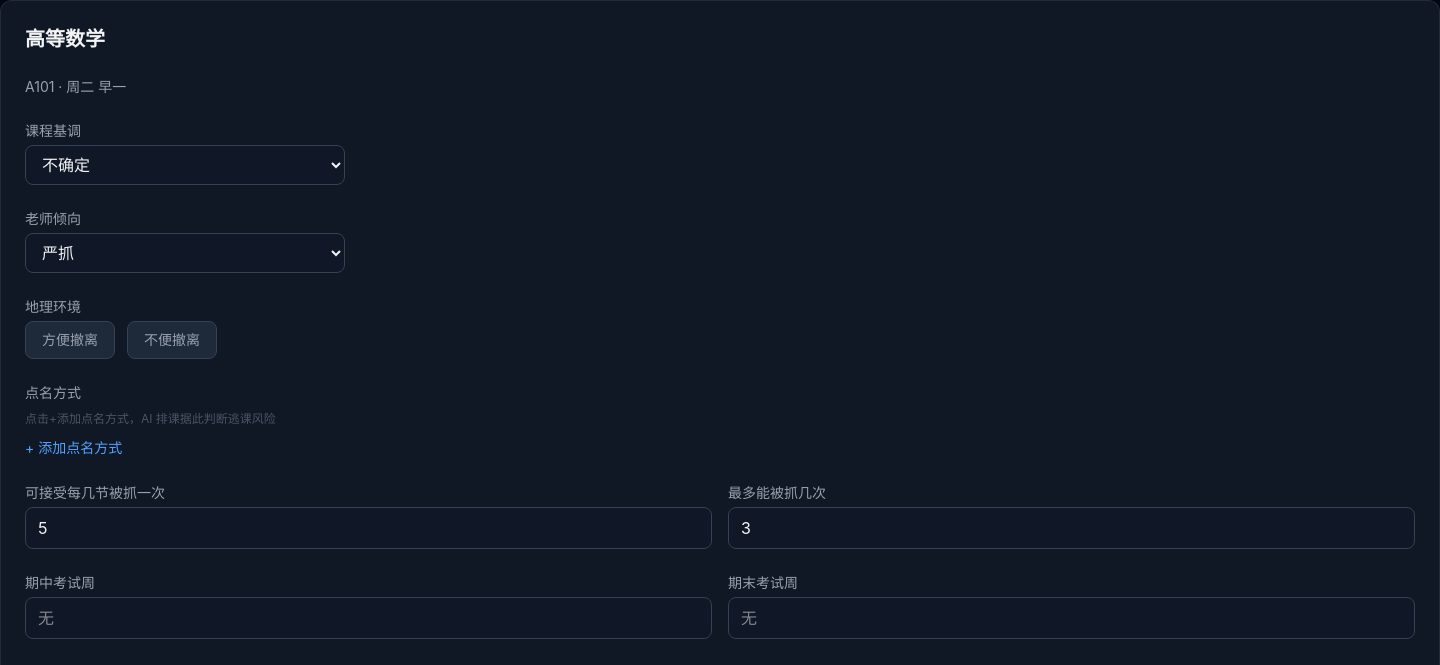
Test: CourseEditor › shows custom input when custom method selected
Click the button "+ 添加点名方式".
click(74, 448)  # box [25, 438, 122, 458]
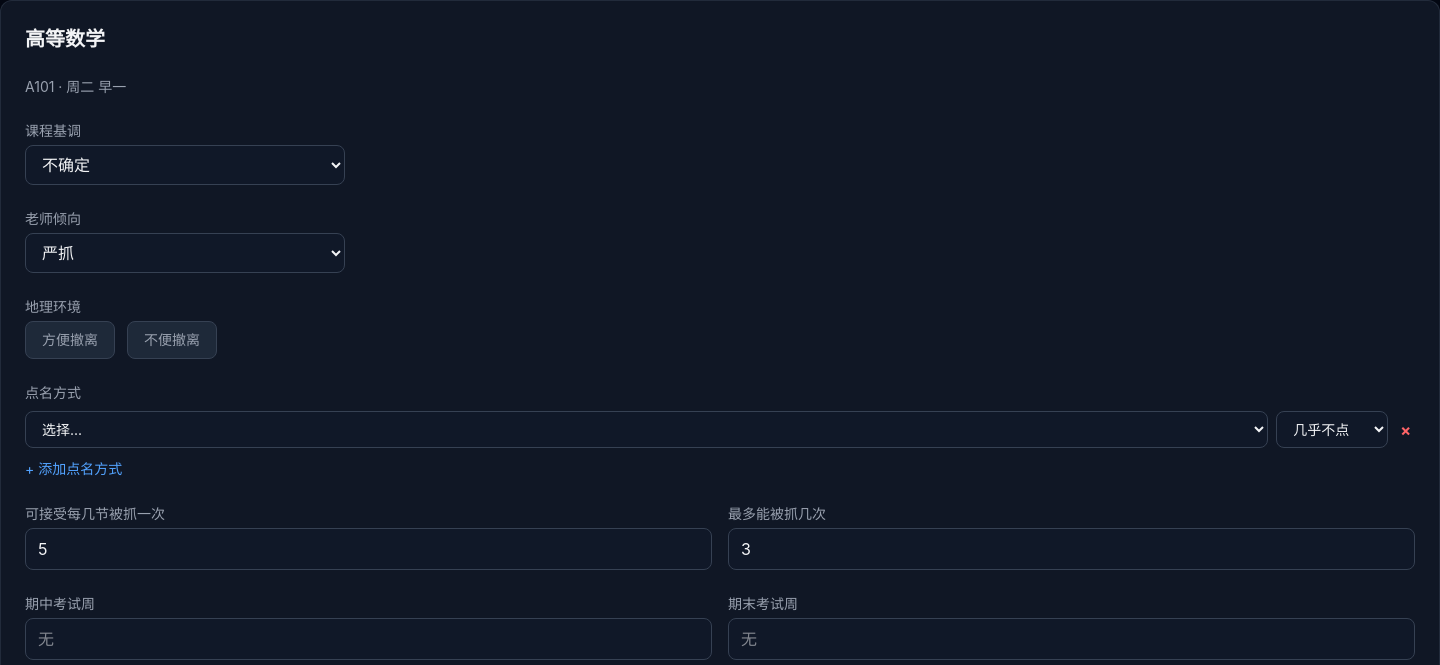
Check: the 3rd dropdown is shown
Select "自定义..." in the 3rd dropdown at (647, 430), box [25, 411, 1268, 448]
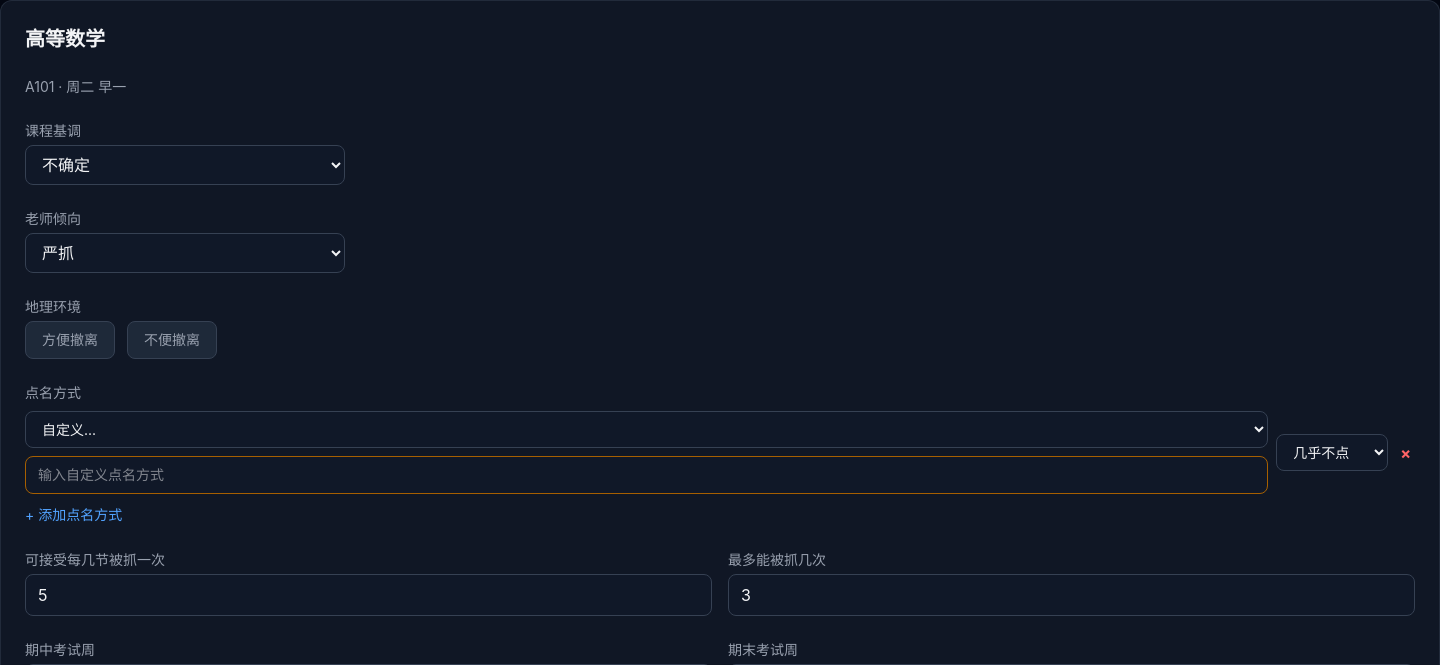
Check: the field with placeholder "输入自定义点名方式" is shown, box [25, 456, 1268, 494]
